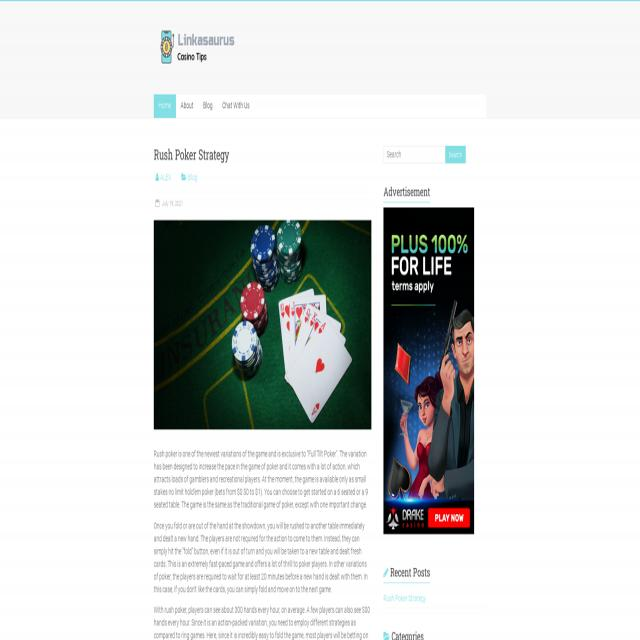button: (154, 220, 371, 429), (384, 207, 474, 534), (154, 18, 290, 72), (218, 94, 255, 118), (429, 506, 469, 526), (154, 94, 176, 118), (176, 94, 198, 118), (198, 94, 218, 118), (445, 146, 466, 164)
field: (383, 146, 445, 164)
